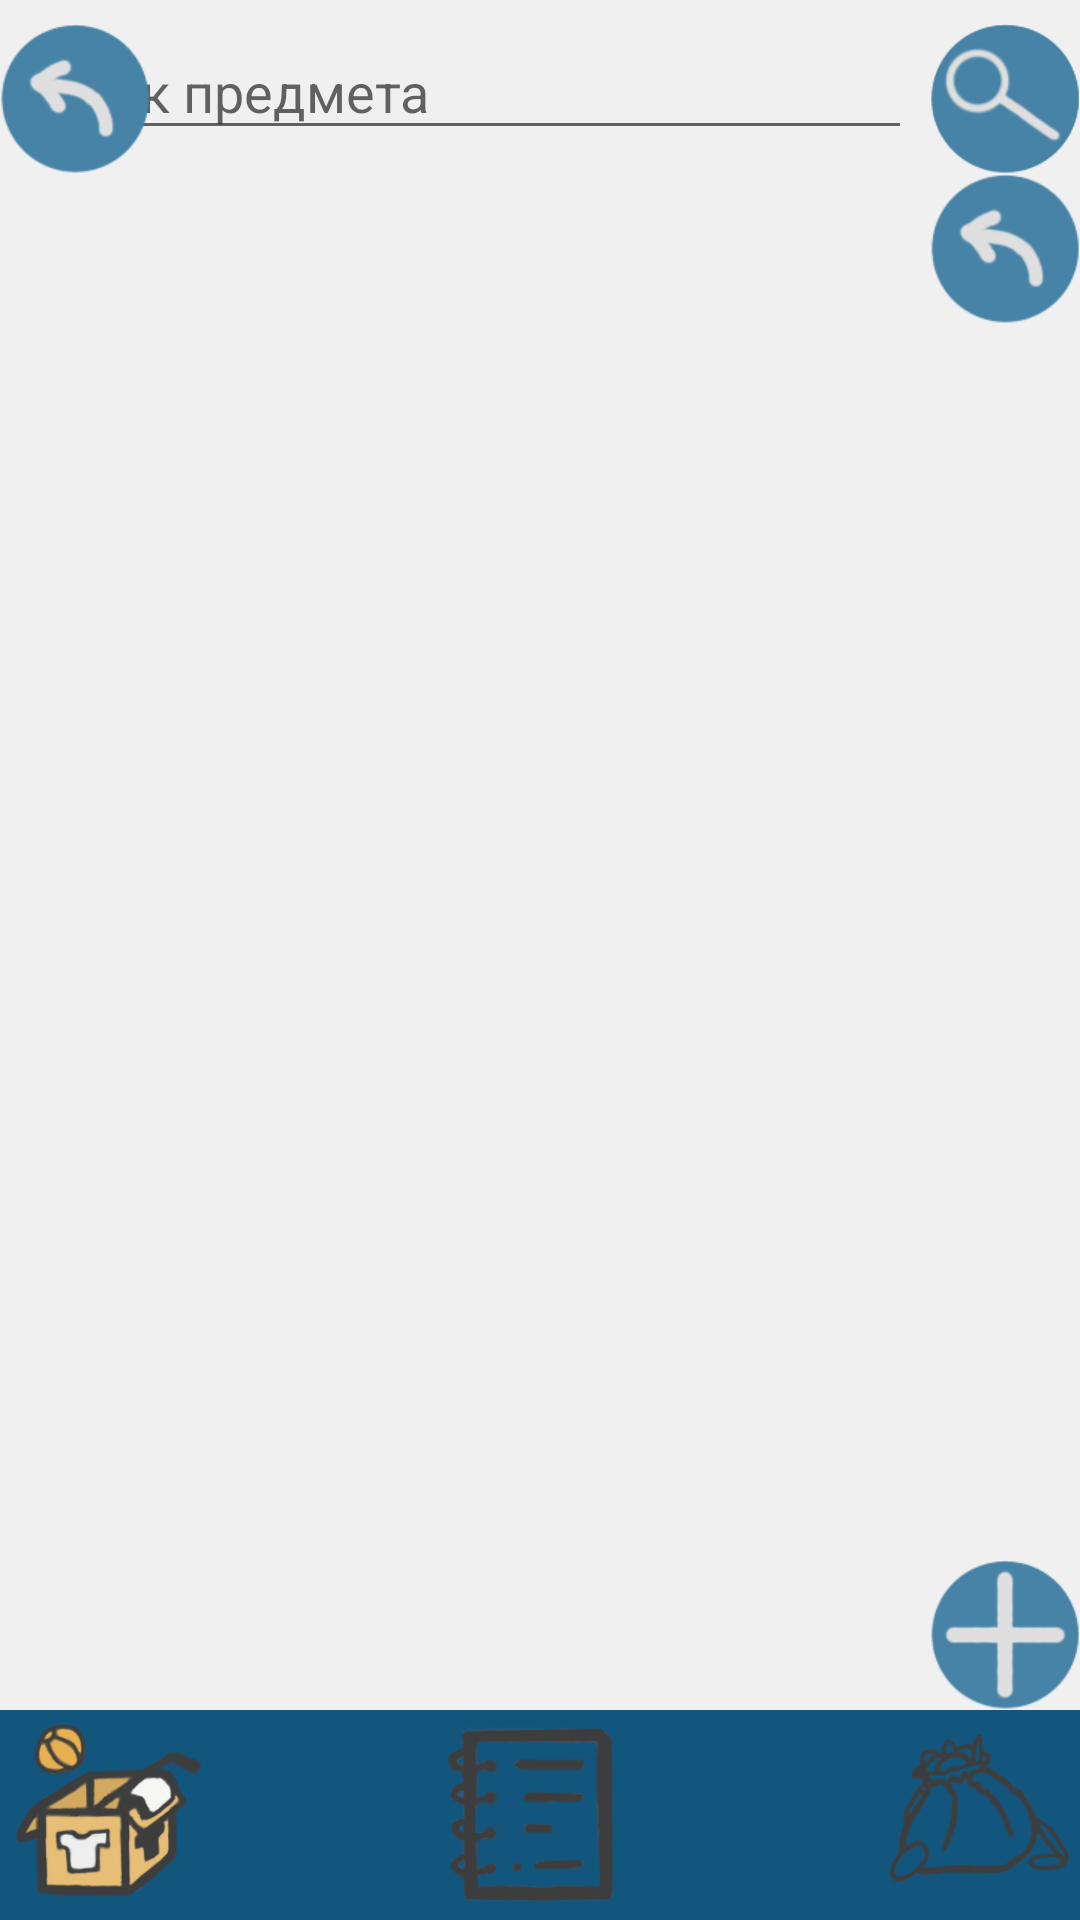

Icons on this 1080 x 1920 Android screen, each with the point to tap as (x,y):
nazad: (75,99)
plyus spok: (1005,1635)
